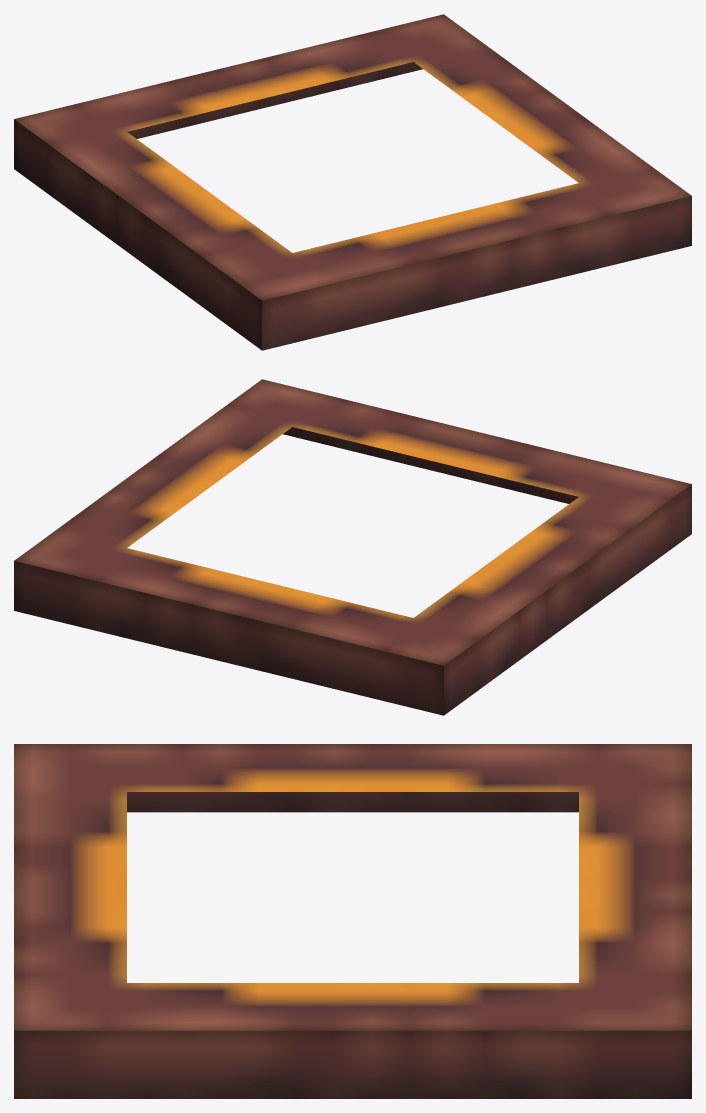
File: press_button_base.fbx
3 views of the same model, one above another, from view 1: azimuth 30°, elevation 25°; view 2: azimuth 150°, elevation 25°; view 3: azimuth 270°, elevation 25° (orthographic). The views are drawn at different scales.
Parts seen in each view (by area): view 1: Cube.078; view 2: Cube.078; view 3: Cube.078.
Boxes of the visible parts, x1,y1,x2,y2 form: Cube.078: [14, 14, 691, 350]; Cube.078: [14, 379, 691, 715]; Cube.078: [14, 744, 691, 1098].
Size of the model in its own units: 90 by 10 by 90.
